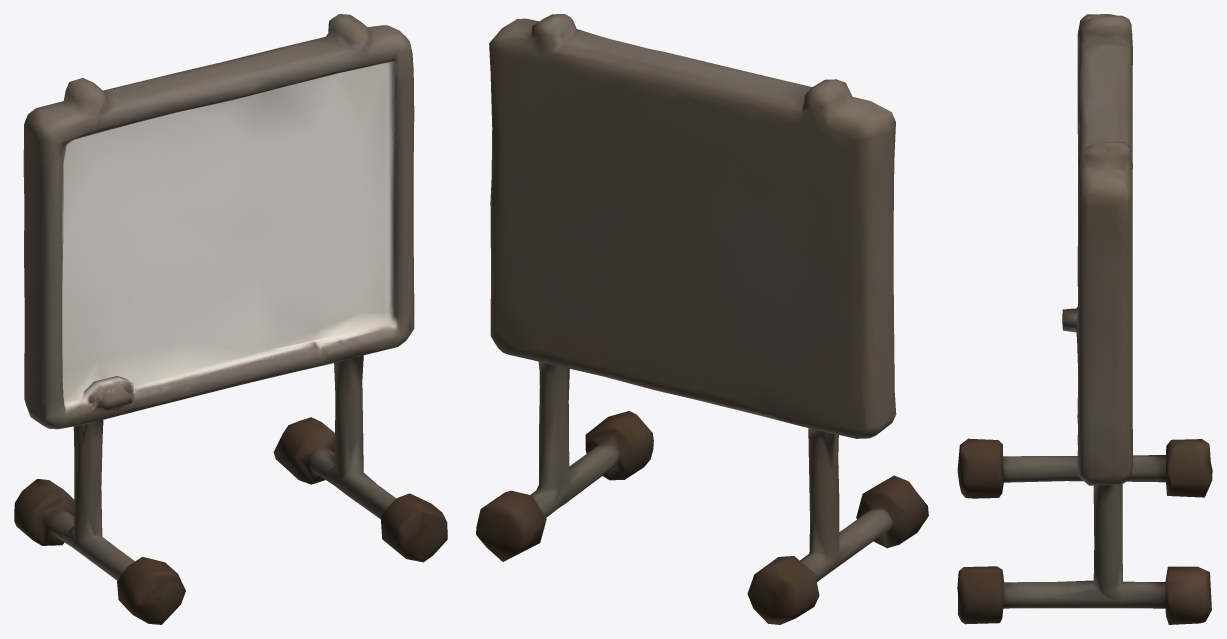
File: tableau.glb
3 views of the same model, side by side, from view 1: azimuth 30°, elevation 25°; view 2: azimuth 150°, elevation 25°; view 3: azimuth 270°, elevation 25° (orthographic). The views are drawn at different scales.
Visible parts, largest first — view 1: tableau; view 2: tableau; view 3: tableau.
Boxes of the visible parts, x1,y1,x2,y2 form: tableau: [14, 14, 447, 624]; tableau: [476, 14, 928, 624]; tableau: [957, 14, 1212, 624].
Size of the model in its own units: 0.2283 by 0.2859 by 0.1377.
1 material, 1 textured.
